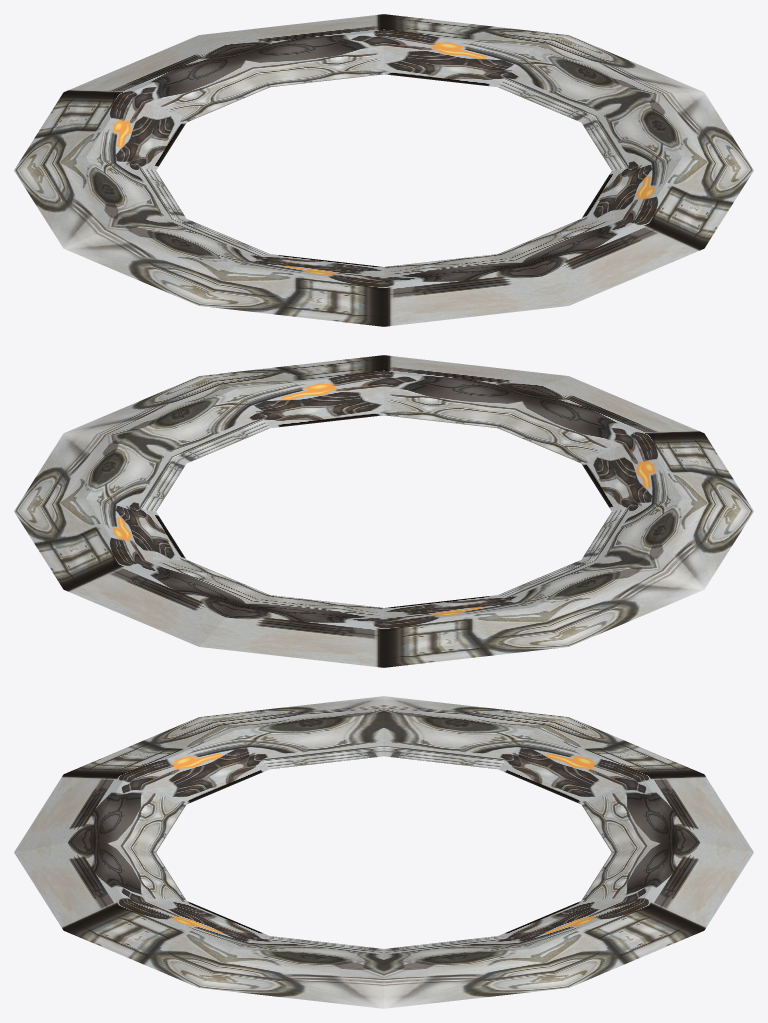
File: Bison_halo.obj
3 renders of one model, top to bottom at view 1: azimuth 30°, elevation 25°; view 2: azimuth 150°, elevation 25°; view 3: azimuth 270°, elevation 25°, orthographic.
Parts seen in each view (by area): view 1: Bison_halo_tri; view 2: Bison_halo_tri; view 3: Bison_halo_tri.
Part boxes in pixels (x1,y1,x2,y2): Bison_halo_tri: [14, 14, 753, 326]; Bison_halo_tri: [14, 355, 753, 667]; Bison_halo_tri: [14, 696, 753, 1008].
Size of the model in its own units: 0.3306 by 0.013 by 0.3306.
1 material, 1 textured.
